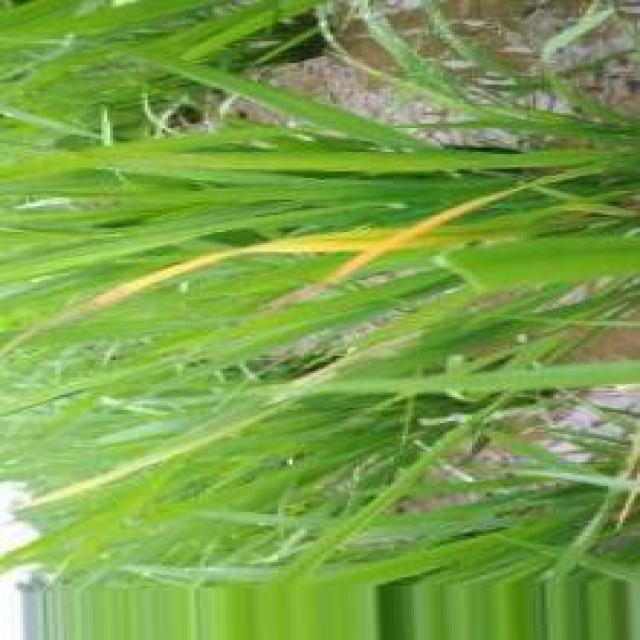Rice Tungro: (3, 232, 377, 353), (267, 172, 581, 311)
